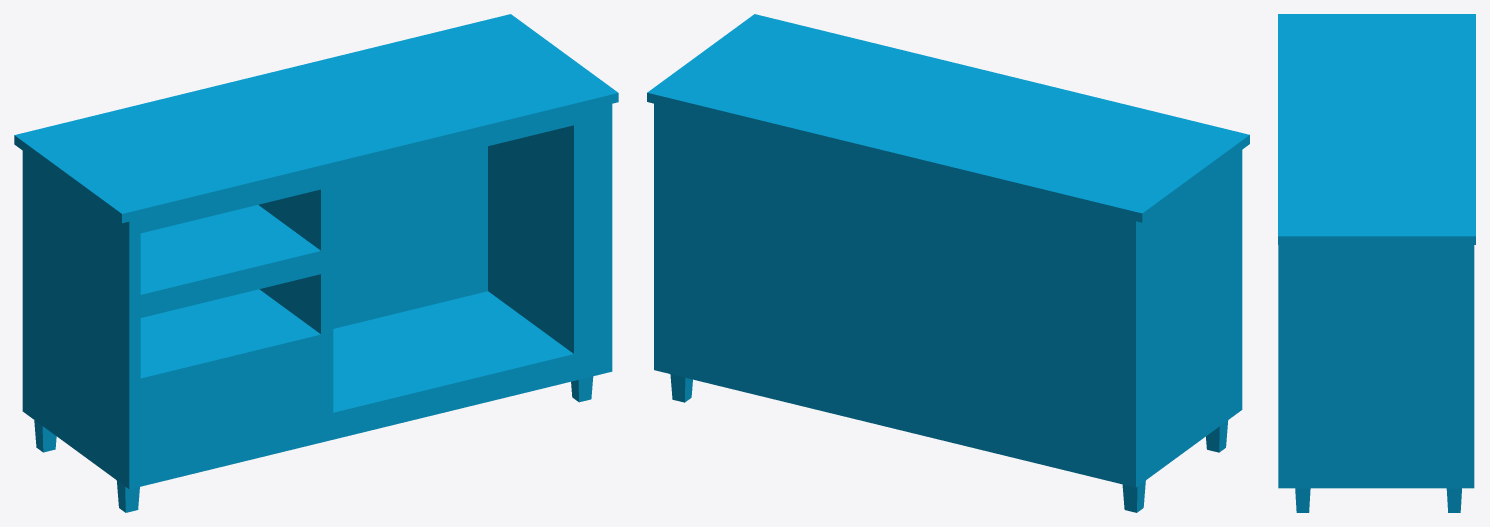
Rendered from Workbench_03_Lod0.fbx.
3 renders of one model, left to right at view 1: azimuth 30°, elevation 25°; view 2: azimuth 150°, elevation 25°; view 3: azimuth 270°, elevation 25°, orthographic. The views are drawn at different scales.
Parts seen in each view (by area): view 1: Workbench_03_Lod0; view 2: Workbench_03_Lod0; view 3: Workbench_03_Lod0.
Part boxes in pixels (x1=…): Workbench_03_Lod0: x1=14, y1=14, x2=618, y2=512; Workbench_03_Lod0: x1=647, y1=14, x2=1249, y2=512; Workbench_03_Lod0: x1=1278, y1=14, x2=1475, y2=512.
Bounding box in the file's own units: 216 × 129 × 81.32.
